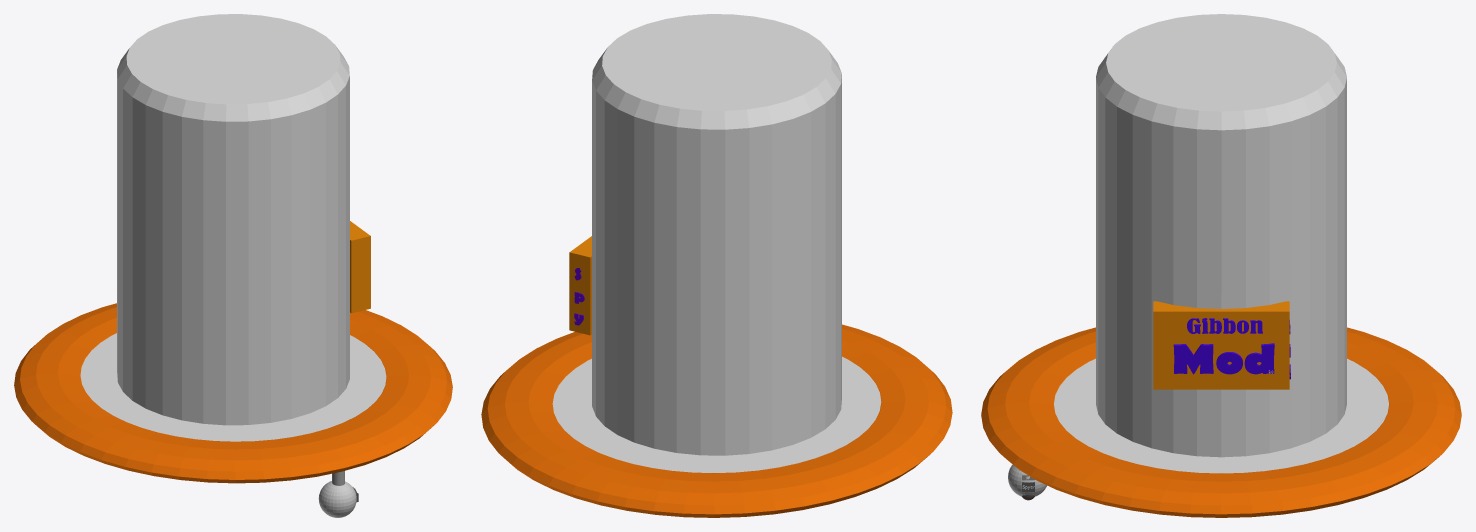
File: heeh_fix (1).fbx
3 renders of one model, left to right at view 1: azimuth 30°, elevation 25°; view 2: azimuth 150°, elevation 25°; view 3: azimuth 270°, elevation 25°, orthographic. The views are drawn at different scales.
Visible parts, largest first — view 1: Cylinder, Torus, Cylinder.001, Cube, Sphere.002; view 2: Cylinder, Torus, Cylinder.001, Cube; view 3: Cylinder, Torus, Cylinder.001, Cube, Text, Text.001, Sphere.002.
Part boxes in pixels (box(x1,y1,x2,y2)): Cylinder: box(117, 14, 349, 425); Torus: box(14, 303, 452, 483); Cylinder.001: box(80, 333, 386, 441); Cube: box(350, 221, 370, 313); Sphere.002: box(318, 481, 356, 517); Cylinder: box(592, 14, 841, 455); Torus: box(481, 324, 952, 517); Cylinder.001: box(552, 356, 881, 472); Cube: box(569, 236, 591, 335); Cylinder: box(1096, 14, 1346, 457); Torus: box(981, 327, 1461, 517); Cylinder.001: box(1054, 358, 1388, 473); Cube: box(1153, 301, 1289, 389); Text: box(1173, 343, 1274, 374); Text.001: box(1187, 318, 1262, 333); Sphere.002: box(1008, 464, 1047, 496).
Bounding box in the file's own units: 258 × 258 × 264.
